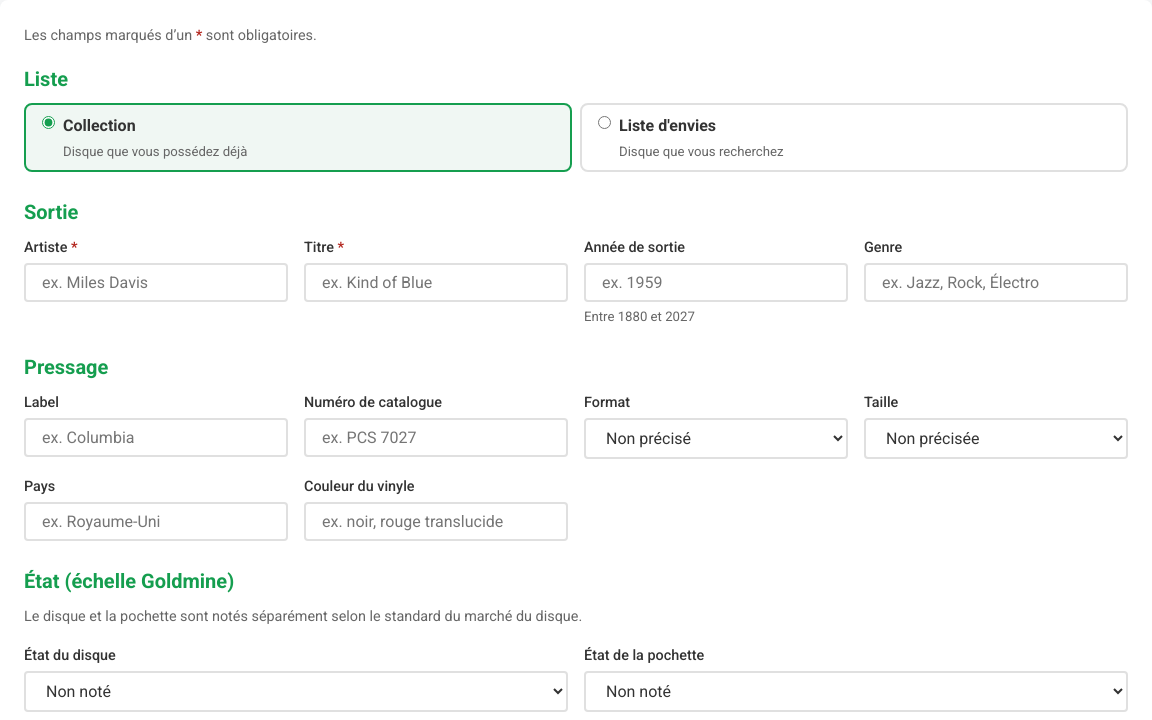
FormulaireVinyle › note séparément le disque et la pochette avec aperçu Goldmine en direct
The image size is (1152, 720).
Expected: the dropdown labelled "État de la pochette" is shown, [584,671,1128,712]
Select "NM (Near Mint) : Quasi neuf, aucune trace visible" in the dropdown labelled "État du disque": {"x": 296, "y": 692} [24,671,568,712]
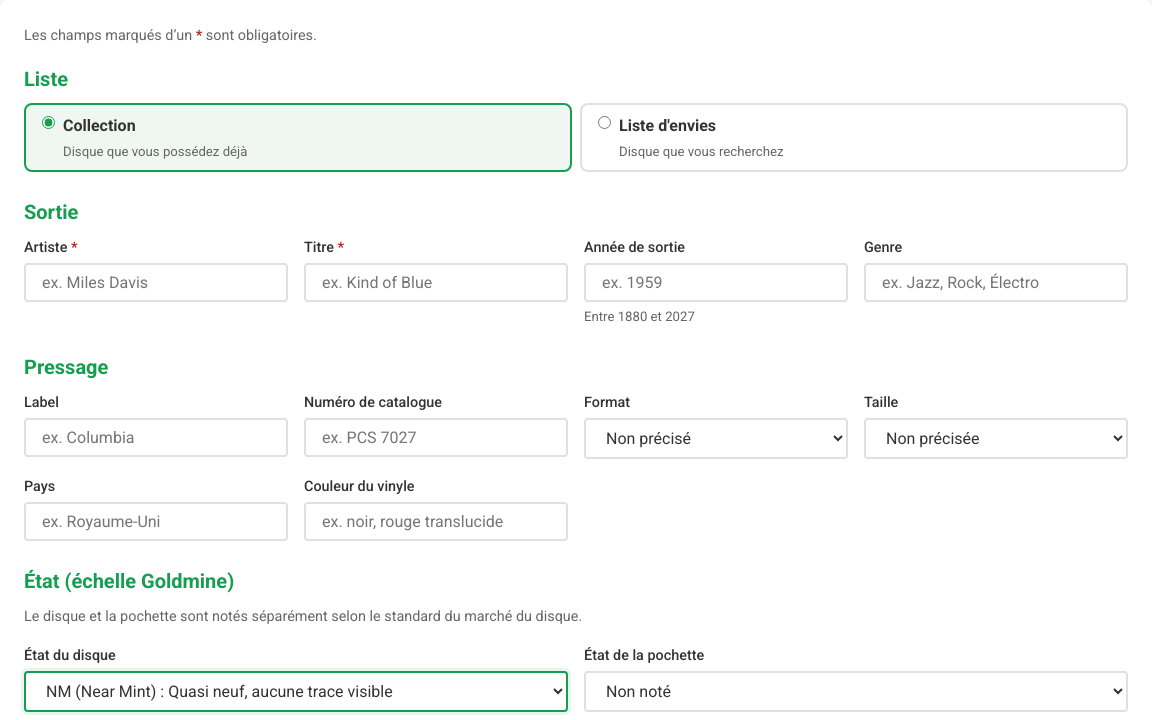
Select "VG (Very Good) : Bon état, traces visibles et léger souffle" in the dropdown labelled "État de la pochette": {"x": 856, "y": 692} [584,671,1128,712]
(page scrolled)
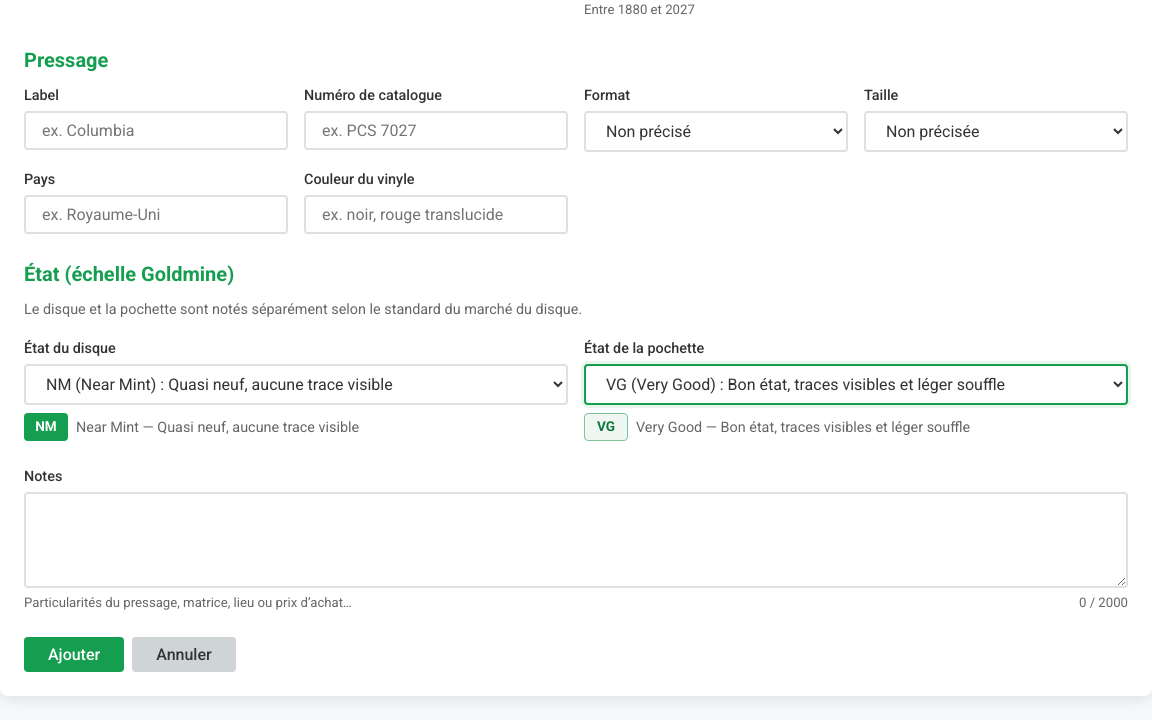
Expected: the text "NM" is shown, [24,413,68,441]
Expected: the text "VG" is shown, [584,413,628,441]
